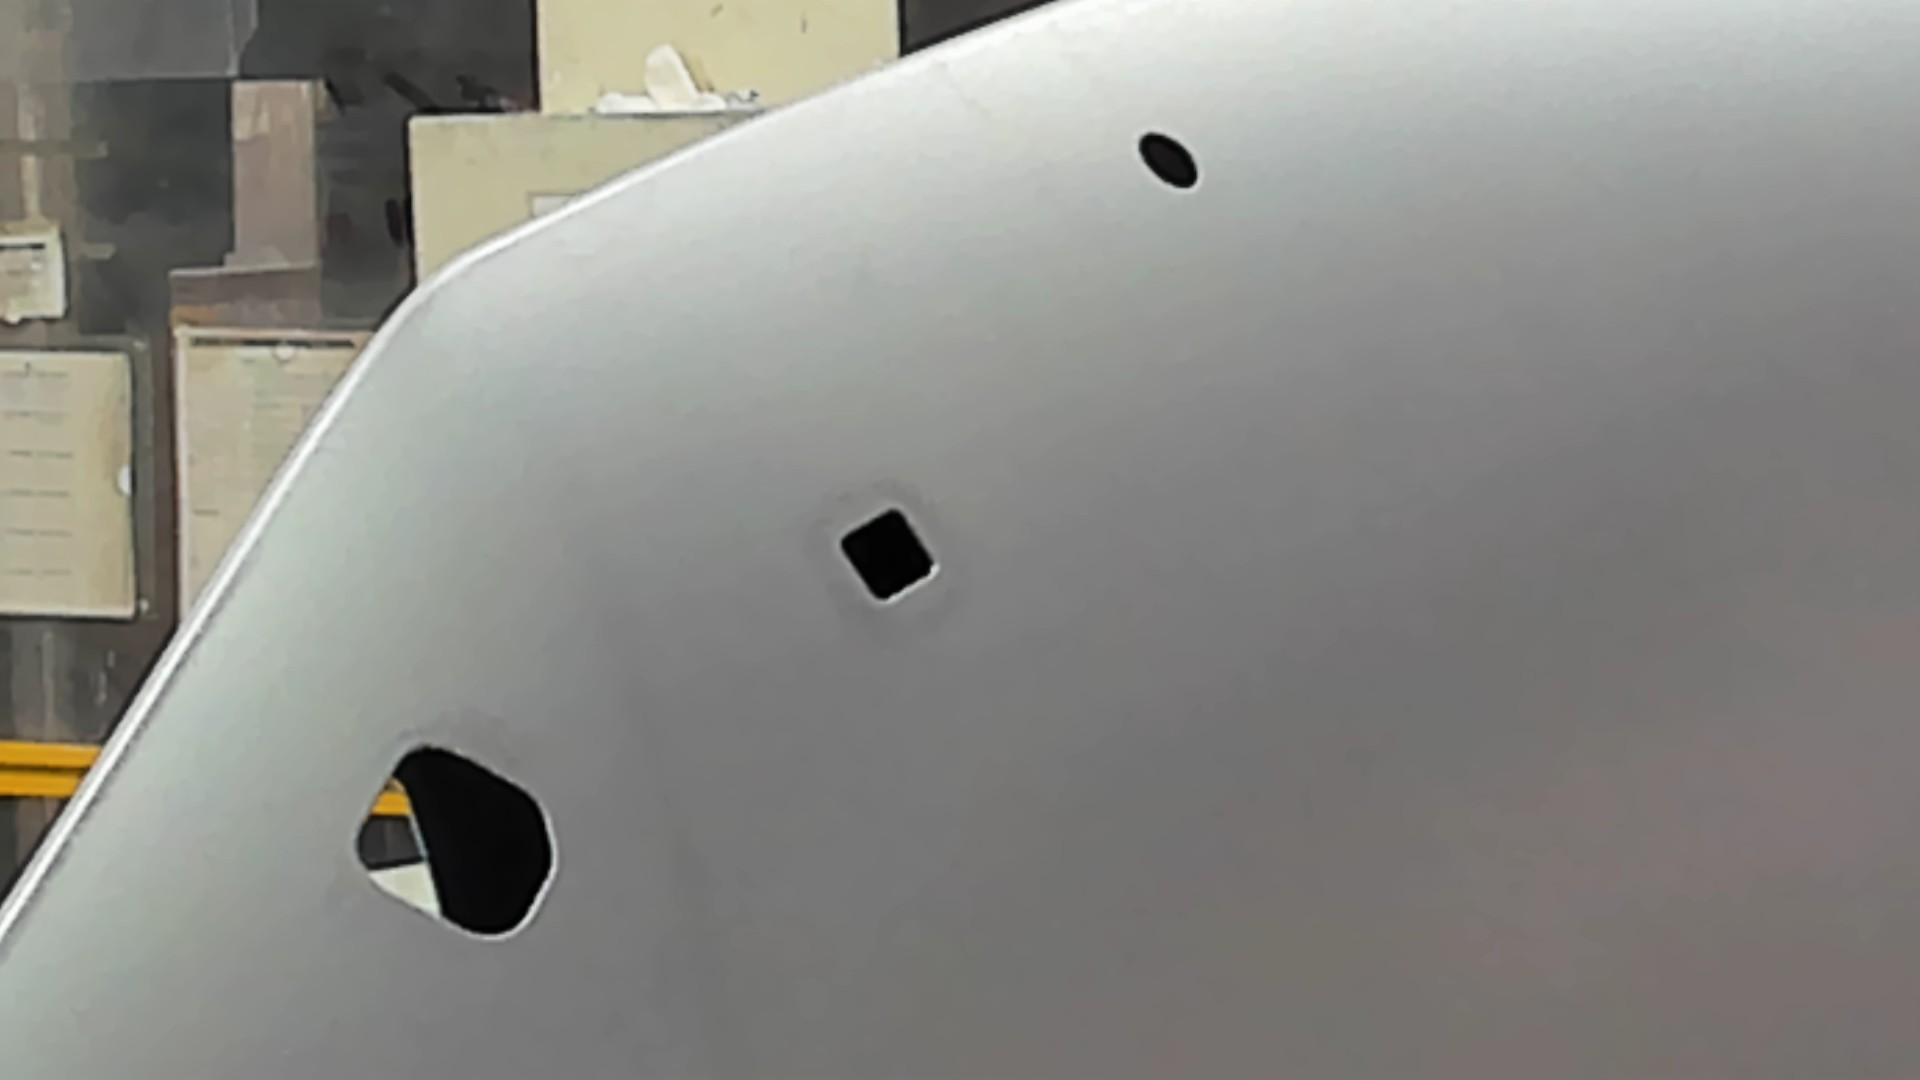chico: (1134, 128, 1201, 191)
grande: (348, 735, 563, 949)
mediano: (832, 502, 942, 611)
